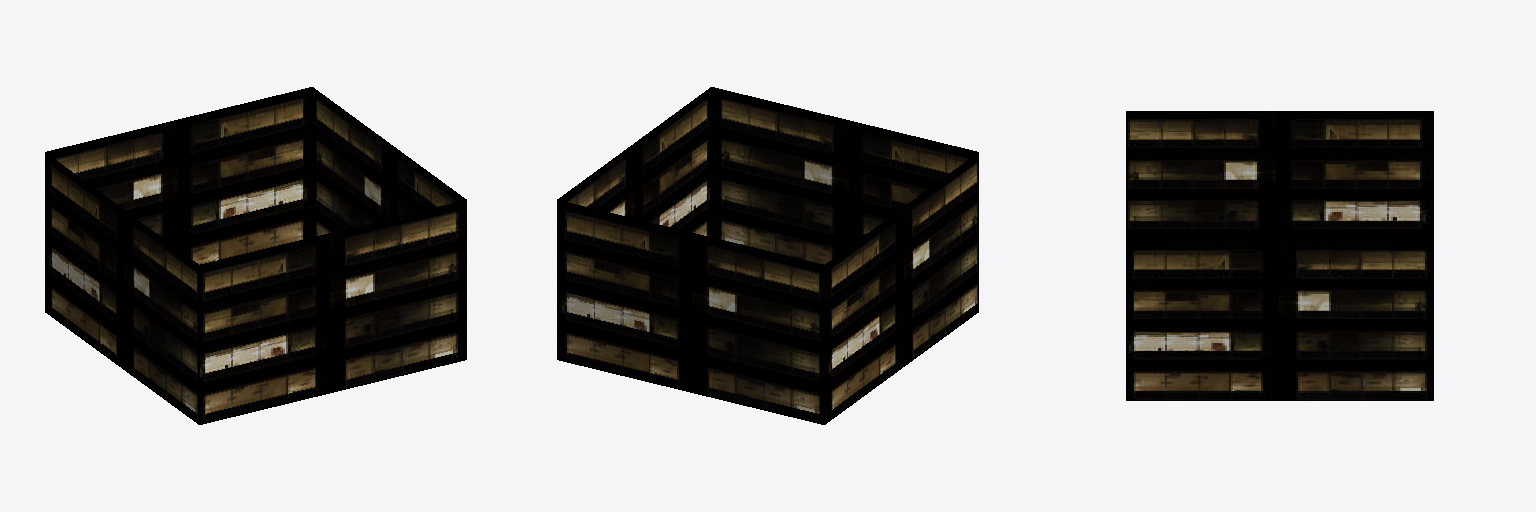
3 renders of one model, left to right at view 1: azimuth 30°, elevation 25°; view 2: azimuth 150°, elevation 25°; view 3: azimuth 270°, elevation 25°, orthographic.
Visible parts, largest first — view 1: Cube.005; view 2: Cube.005; view 3: Cube.005.
Part boxes in pixels (bbox=[...]): Cube.005: bbox=[45, 87, 466, 424]; Cube.005: bbox=[557, 87, 978, 424]; Cube.005: bbox=[1126, 111, 1433, 400].
Size of the model in its own units: 0.5664 by 0.3247 by 0.5664.
Materials: 1 (1 with a texture image).